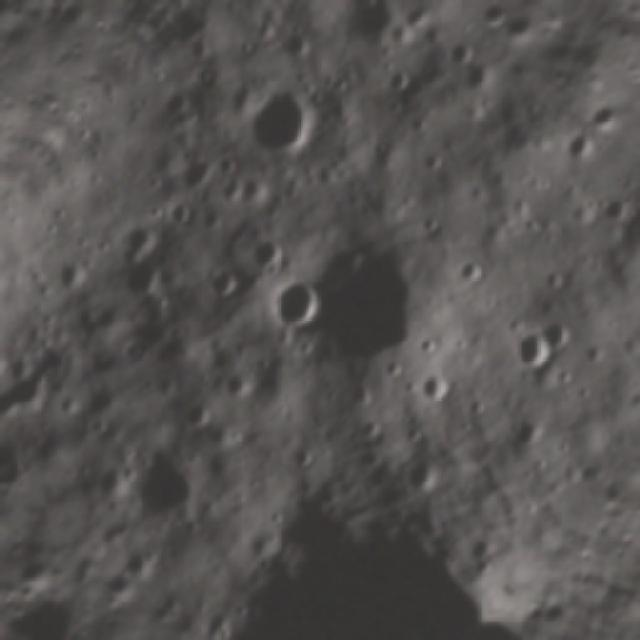crater: (174, 441, 502, 640), (270, 210, 472, 408), (231, 74, 337, 181), (118, 438, 215, 536), (0, 348, 85, 458), (258, 271, 334, 346), (107, 247, 176, 316), (235, 220, 300, 285), (500, 323, 560, 383), (191, 258, 249, 316), (113, 212, 170, 268), (407, 359, 462, 415), (394, 452, 448, 506), (47, 250, 99, 302), (214, 358, 264, 408), (452, 54, 503, 103), (170, 150, 218, 201), (529, 312, 576, 360), (174, 392, 220, 439), (272, 22, 319, 68), (444, 248, 488, 292), (438, 31, 482, 75), (590, 192, 633, 234), (154, 193, 195, 235), (561, 128, 601, 168), (214, 174, 252, 212), (382, 63, 416, 99), (413, 213, 445, 245), (631, 245, 640, 282)
